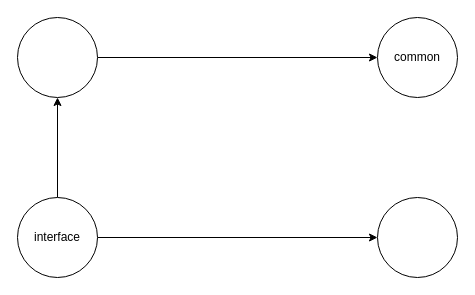
This 475x295 diagram has some shape labels left out. The shapes that lost their labels are listed below. From the top down, each one's centre as x and y in pixels, then its label:
At [57,57]: "rpc".
At [417,237]: "infrasturcture".
